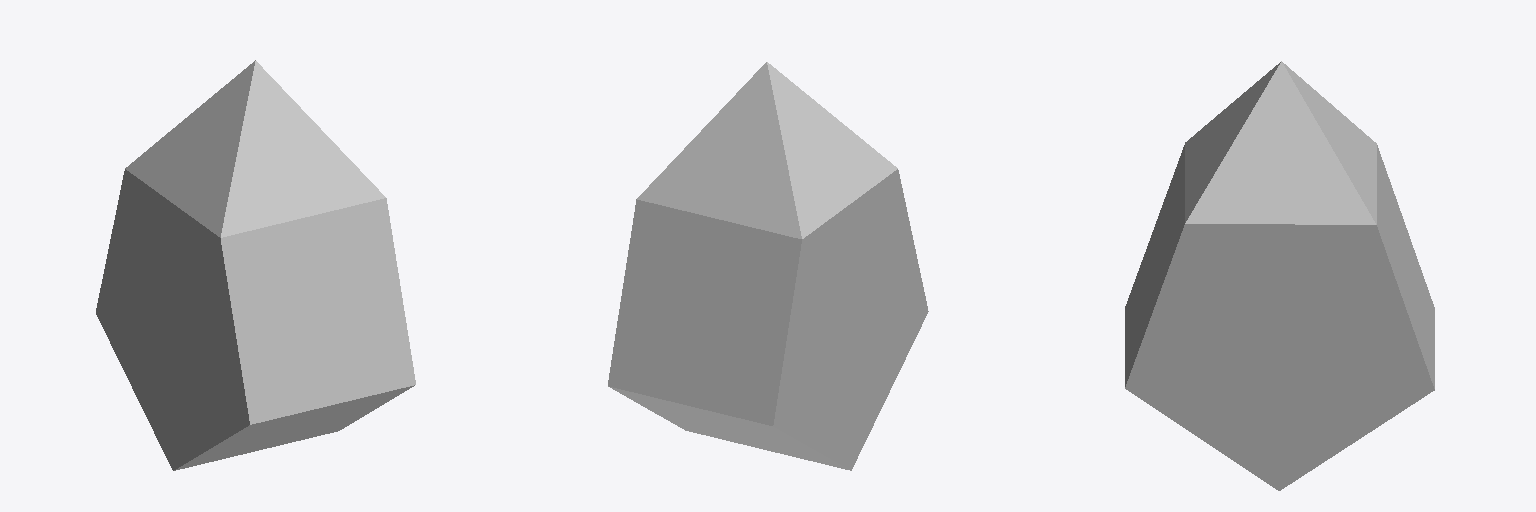
The model's file is AugmentedPentagonalPrism.obj.
3 views of the same model, side by side, from view 1: azimuth 30°, elevation 25°; view 2: azimuth 150°, elevation 25°; view 3: azimuth 270°, elevation 25° (orthographic).
Parts seen in each view (by area): view 1: AugmentedPentagonalPrism; view 2: AugmentedPentagonalPrism; view 3: AugmentedPentagonalPrism.
Part boxes in pixels (x1,y1,x2,y2): AugmentedPentagonalPrism: (96, 60, 415, 470); AugmentedPentagonalPrism: (608, 62, 928, 470); AugmentedPentagonalPrism: (1125, 61, 1434, 490).
Bounding box in the file's own units: 0.7526 × 1.69 × 1.21.